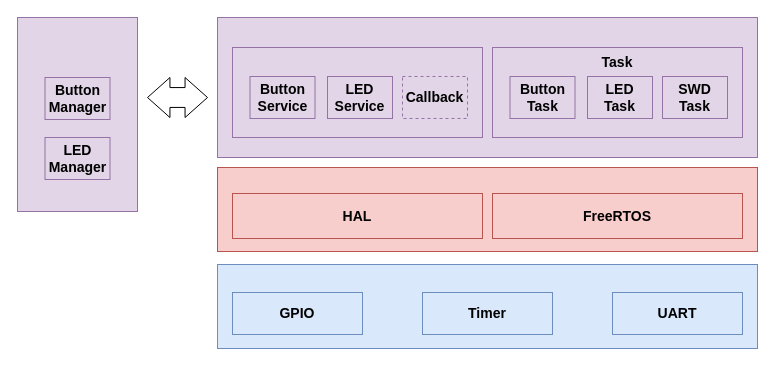
The diagram is 775 pixels wide and 366 high, and some of its shapes have lost their labels. The box of each missing label's shape, as (x1, y1, x2, y2) in pixels:
Application: (216, 16, 758, 158)
Driver: (216, 264, 758, 348)
Gsl [Static Library]: (16, 16, 138, 212)
Middleware: (216, 166, 758, 252)
Service [ISR, 1ms]: (232, 46, 482, 138)
